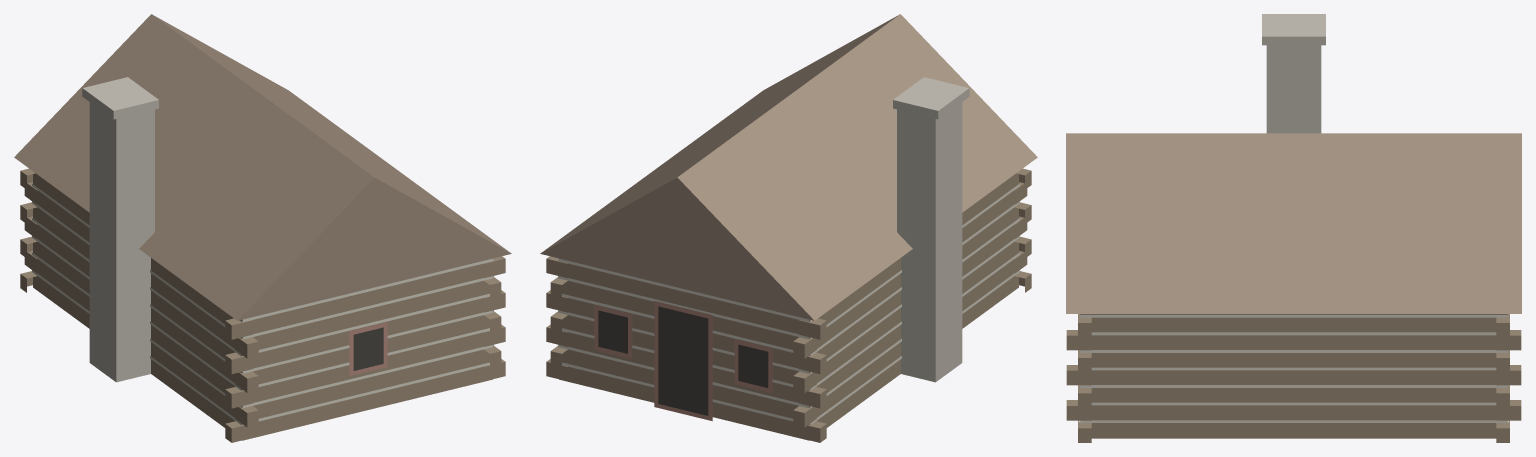
Rendered from recon_1835_blk_randolph_dearborn_d1_12__inferred_1835.glb.
The picture shows the model from 3 angles, left to right: view 1: azimuth 30°, elevation 25°; view 2: azimuth 150°, elevation 25°; view 3: azimuth 270°, elevation 25°; orthographic projection. The views are drawn at different scales.
Parts seen in each view (by area): view 1: recon_1835_blk_randolph_dearborn_d1_12__inferred_1835; view 2: recon_1835_blk_randolph_dearborn_d1_12__inferred_1835; view 3: recon_1835_blk_randolph_dearborn_d1_12__inferred_1835.
Boxes of the visible parts, box(x1,y1,x2,y2) form: recon_1835_blk_randolph_dearborn_d1_12__inferred_1835: box(14, 14, 511, 442); recon_1835_blk_randolph_dearborn_d1_12__inferred_1835: box(540, 14, 1037, 442); recon_1835_blk_randolph_dearborn_d1_12__inferred_1835: box(1066, 14, 1521, 442).
Size of the model in its own units: 6.26 by 5.49 by 8.01.
